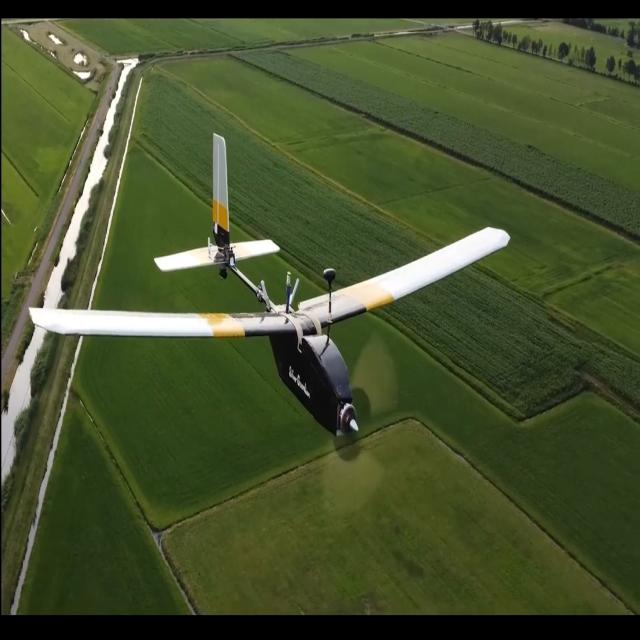iha: (27, 129, 514, 452)
